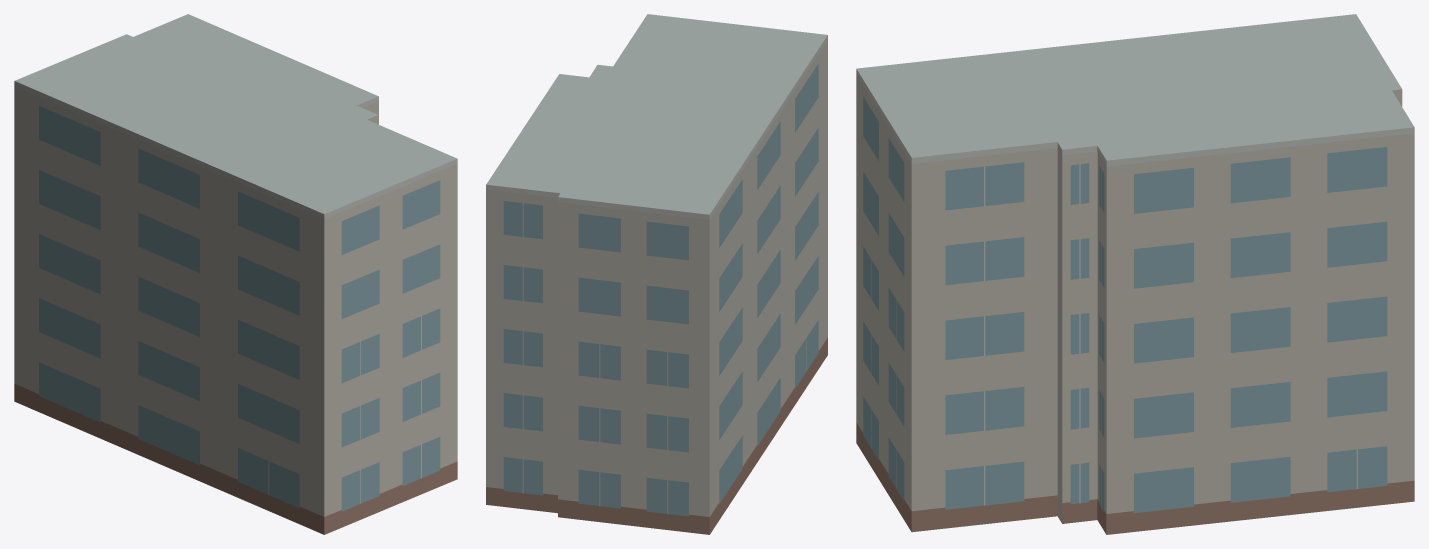
File: survey-upis-32978631.glb
3 renders of one model, left to right at view 1: azimuth 30°, elevation 25°; view 2: azimuth 150°, elevation 25°; view 3: azimuth 270°, elevation 25°, orthographic. The views are drawn at different scales.
Visible parts, largest first — view 1: survey-upis-32978631.tmp; view 2: survey-upis-32978631.tmp; view 3: survey-upis-32978631.tmp.
Part boxes in pixels (box(x1,y1,x2,y2)): survey-upis-32978631.tmp: box(14, 14, 457, 534); survey-upis-32978631.tmp: box(486, 14, 827, 534); survey-upis-32978631.tmp: box(856, 14, 1414, 534).
Size of the model in its own units: 12.82 by 15.25 by 20.63.
